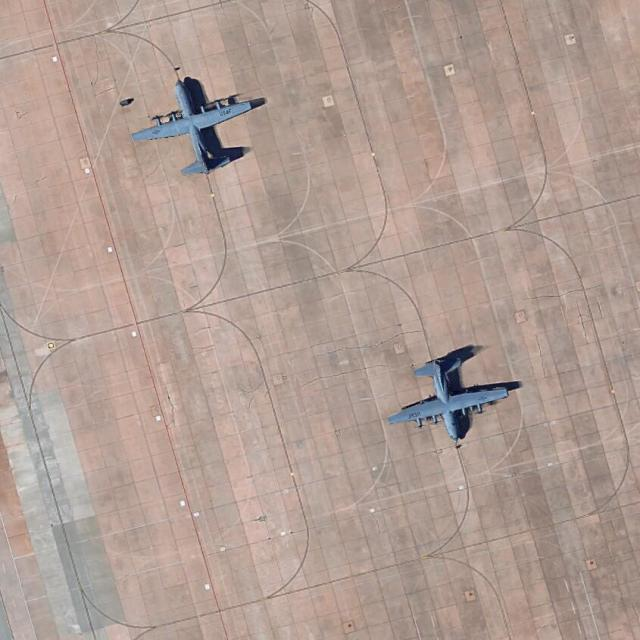fighter jet: (129, 73, 266, 174), (379, 356, 517, 452)
